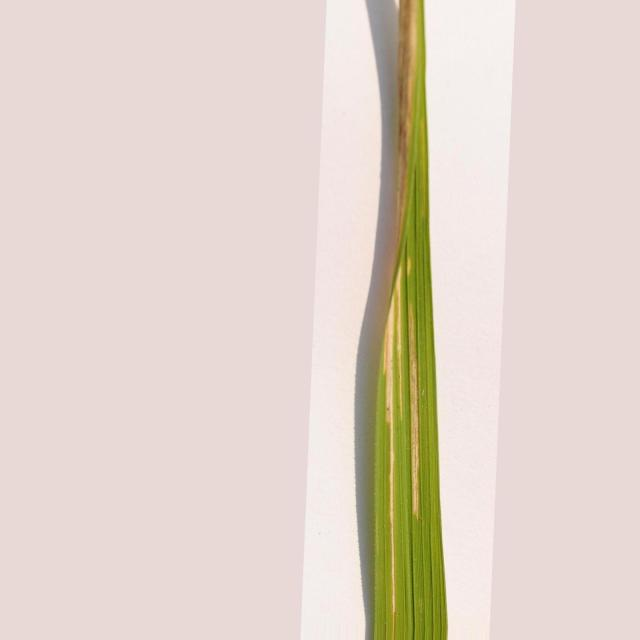Bacterial_Leaf_Blight: (375, 290, 410, 459), (408, 308, 428, 521), (399, 0, 417, 199), (429, 309, 436, 434)
